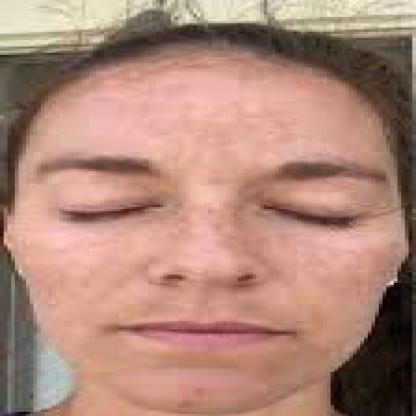darkspot: (148, 110, 304, 146), (160, 380, 234, 406)
wrinkle: (356, 218, 408, 268)
